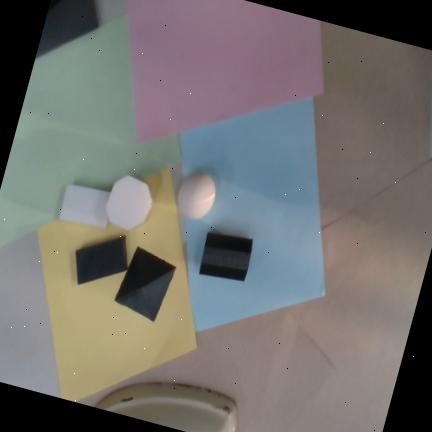Esfera: (176, 171, 215, 219)
Paralelepipedo: (75, 235, 127, 285), (58, 183, 110, 227)
Piramide: (113, 246, 176, 322)
Prisma_hexagonal: (198, 231, 253, 281), (105, 174, 152, 231)
